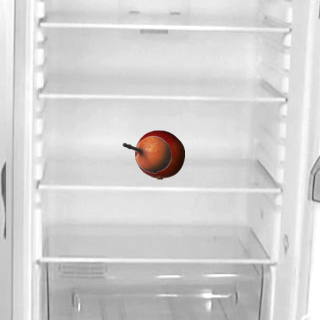Apple Braeburn: (134, 129, 184, 179)
Granadilla: (121, 129, 171, 179)
